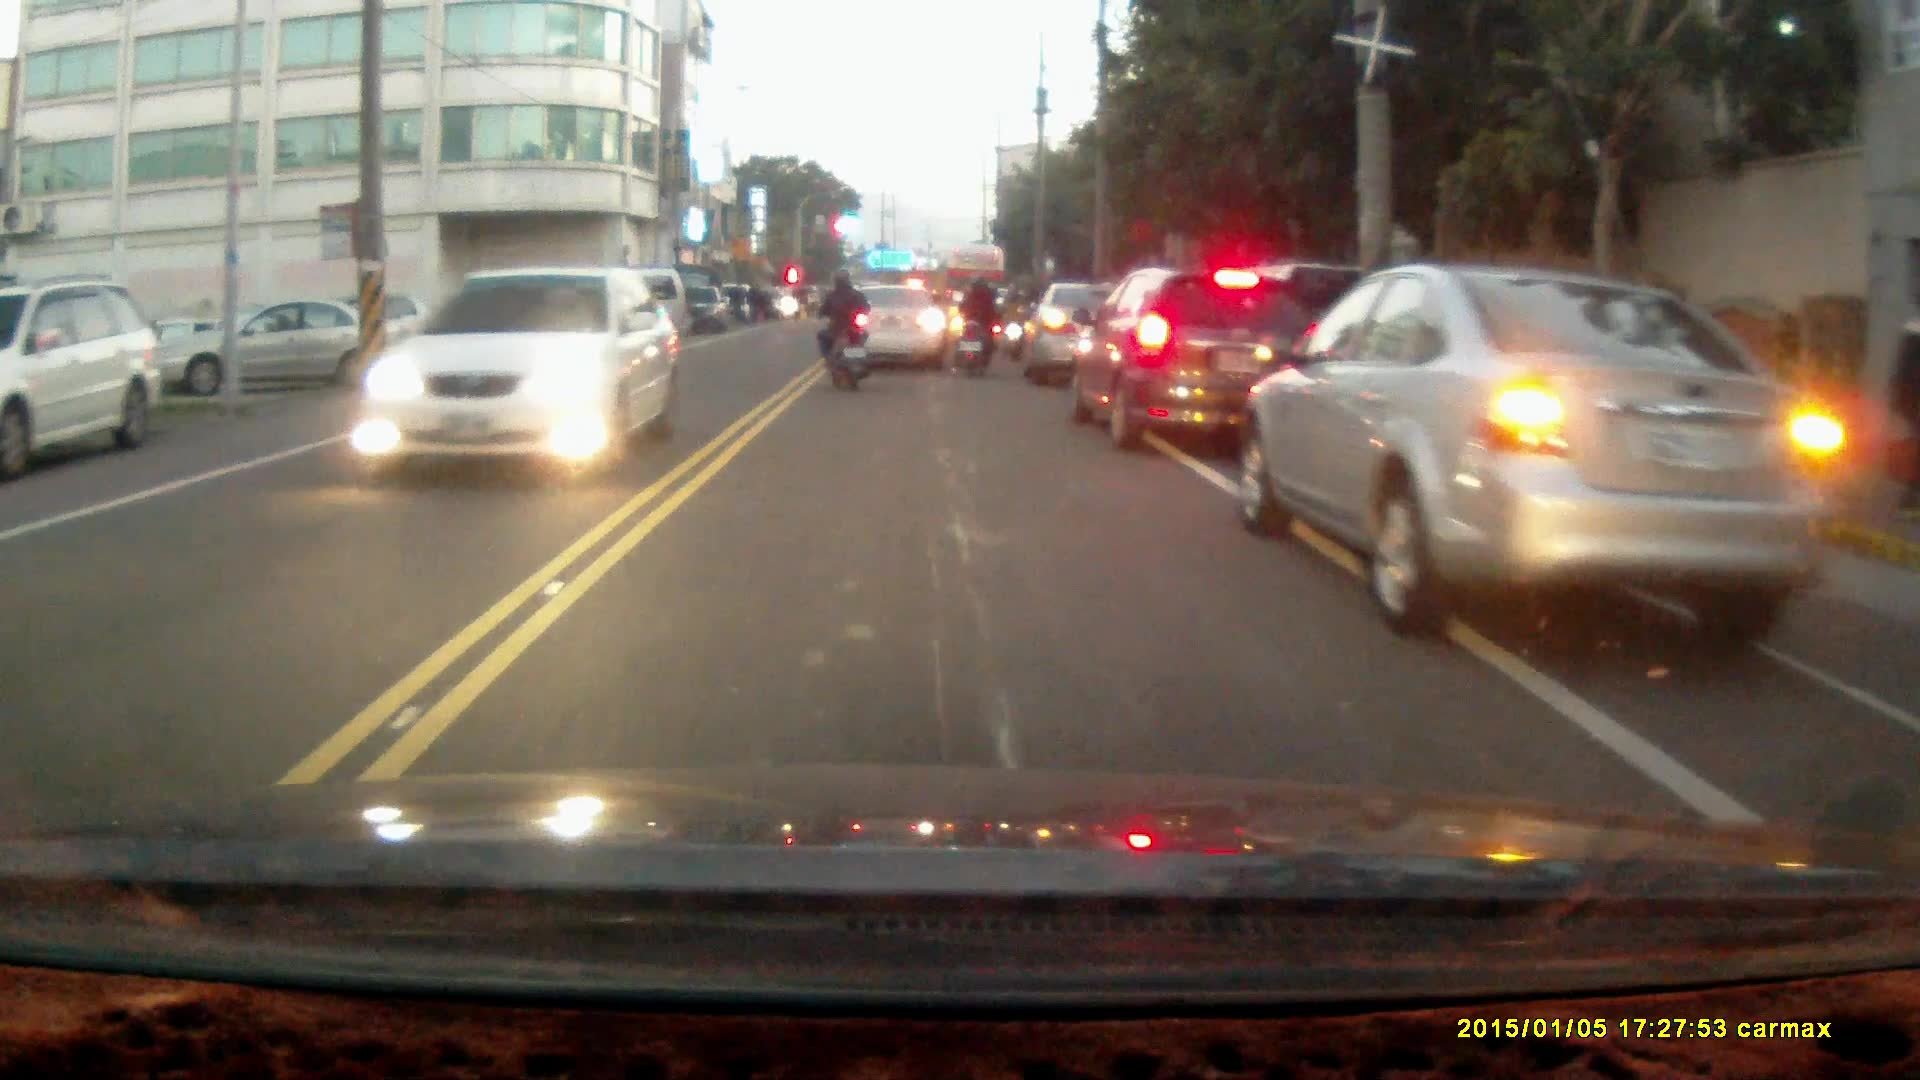rider: (813, 269, 871, 392), (953, 272, 1006, 376)
vehicle: (1242, 262, 1861, 639), (352, 267, 674, 480), (1069, 268, 1330, 458), (1, 280, 164, 472), (157, 297, 409, 398), (1018, 279, 1145, 395), (835, 287, 947, 378)
